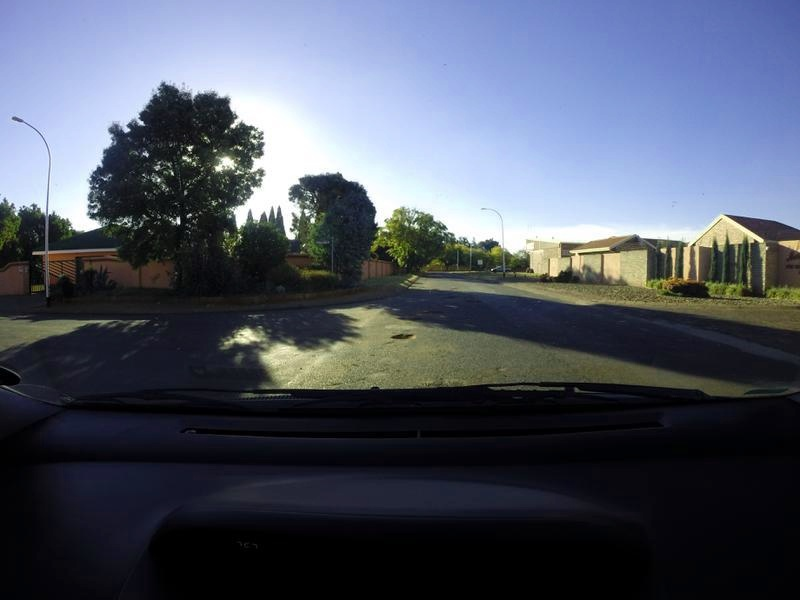pothole: (390, 329, 412, 342), (422, 306, 444, 315), (400, 312, 421, 321), (440, 292, 455, 298), (462, 297, 482, 301)
